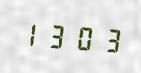one: (18, 16, 43, 51)
three: (96, 21, 121, 56), (44, 18, 69, 52)
zero: (70, 20, 95, 54)
